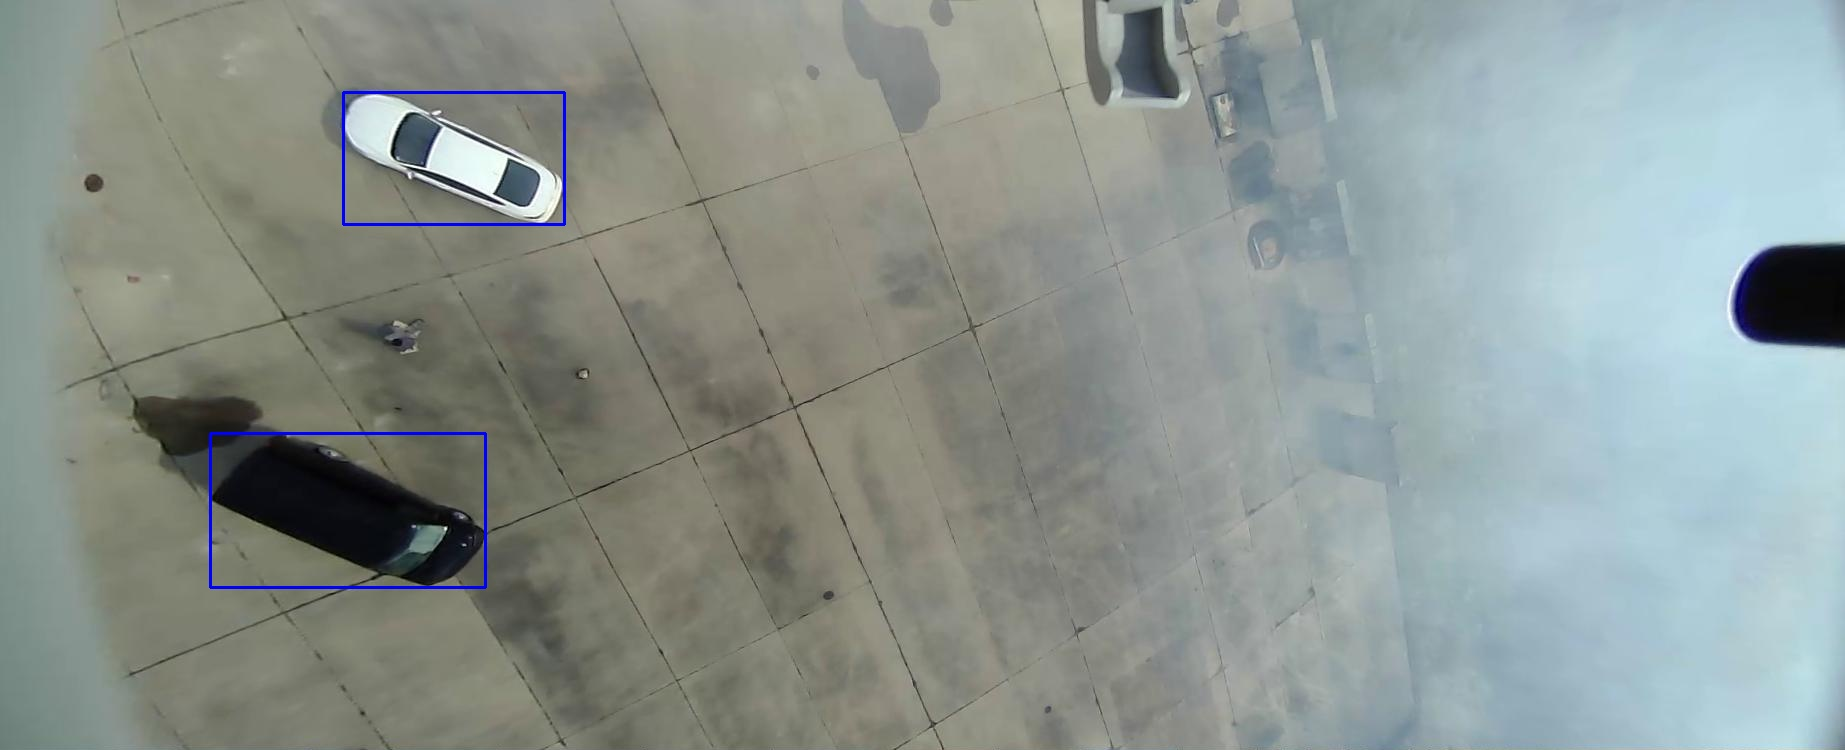vehicle: (433, 210, 587, 485), (92, 343, 224, 564)
